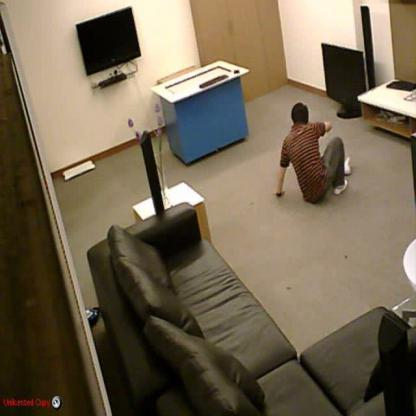Person: (276, 102, 350, 205)
